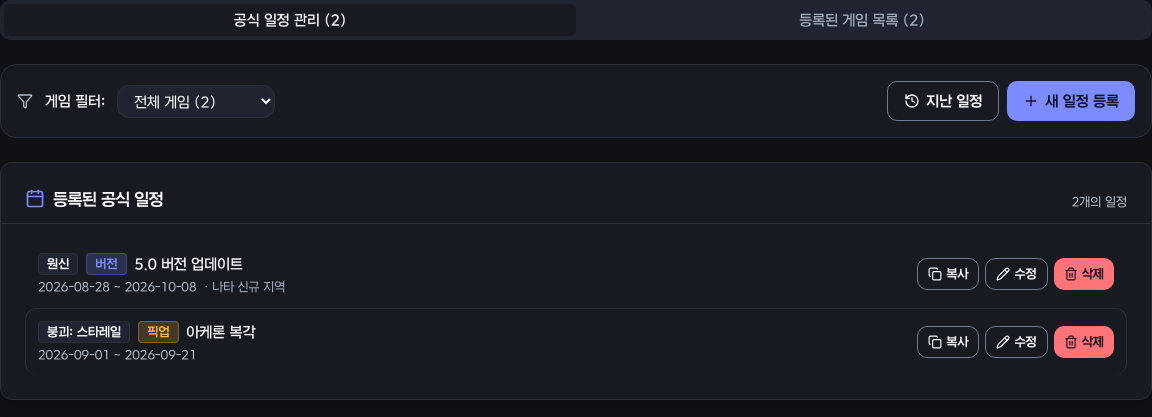
AdminPage - 일정 관리 › 등록된 일정 목록을 정상적으로 렌더링하고 게임별 필터링을 지원한다
Expected: the heading "등록된 공식 일정" is shown, [53, 187, 163, 211]
Expected: the text "5.0 버전 업데이트" is shown, [135, 254, 243, 274]
게임 필터 선택
Select "원신 (1)" in the dropdown named "게임 필터 선택" at (196,101), box [117, 84, 275, 118]
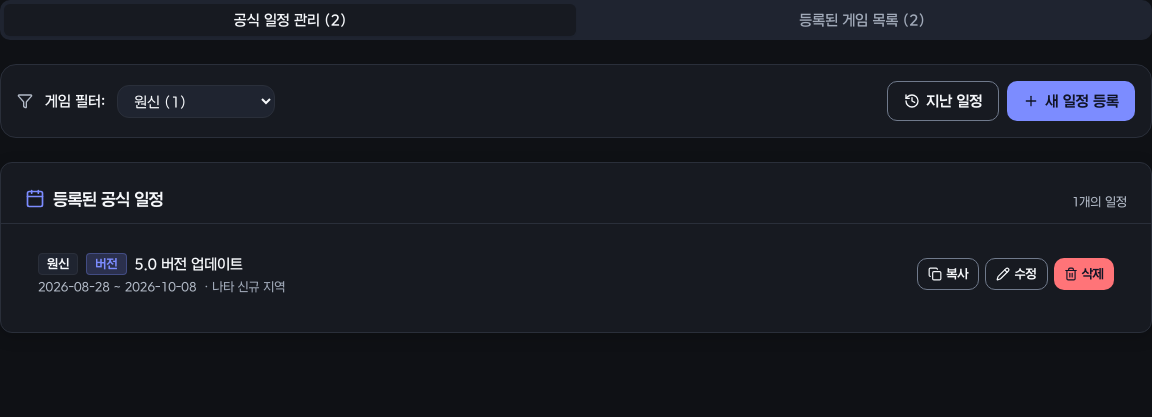
Expected: the text "5.0 버전 업데이트" is shown, [135, 254, 243, 274]
Result: the text "아케론 복각" is gone
